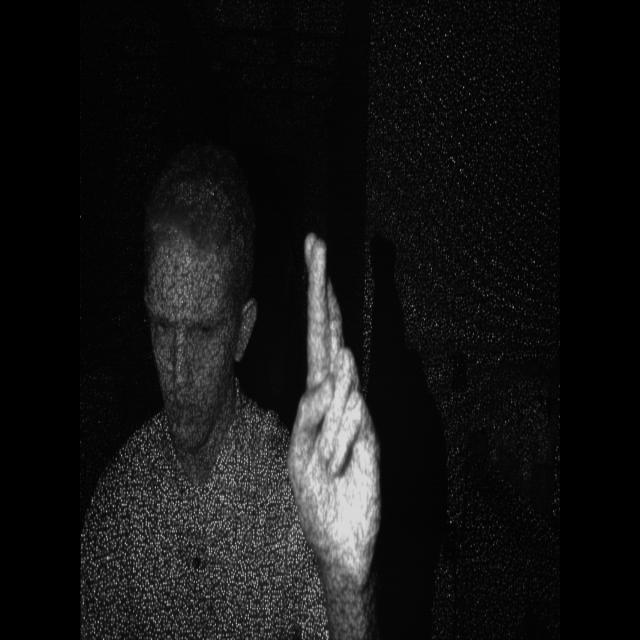R: (281, 217, 388, 566)
